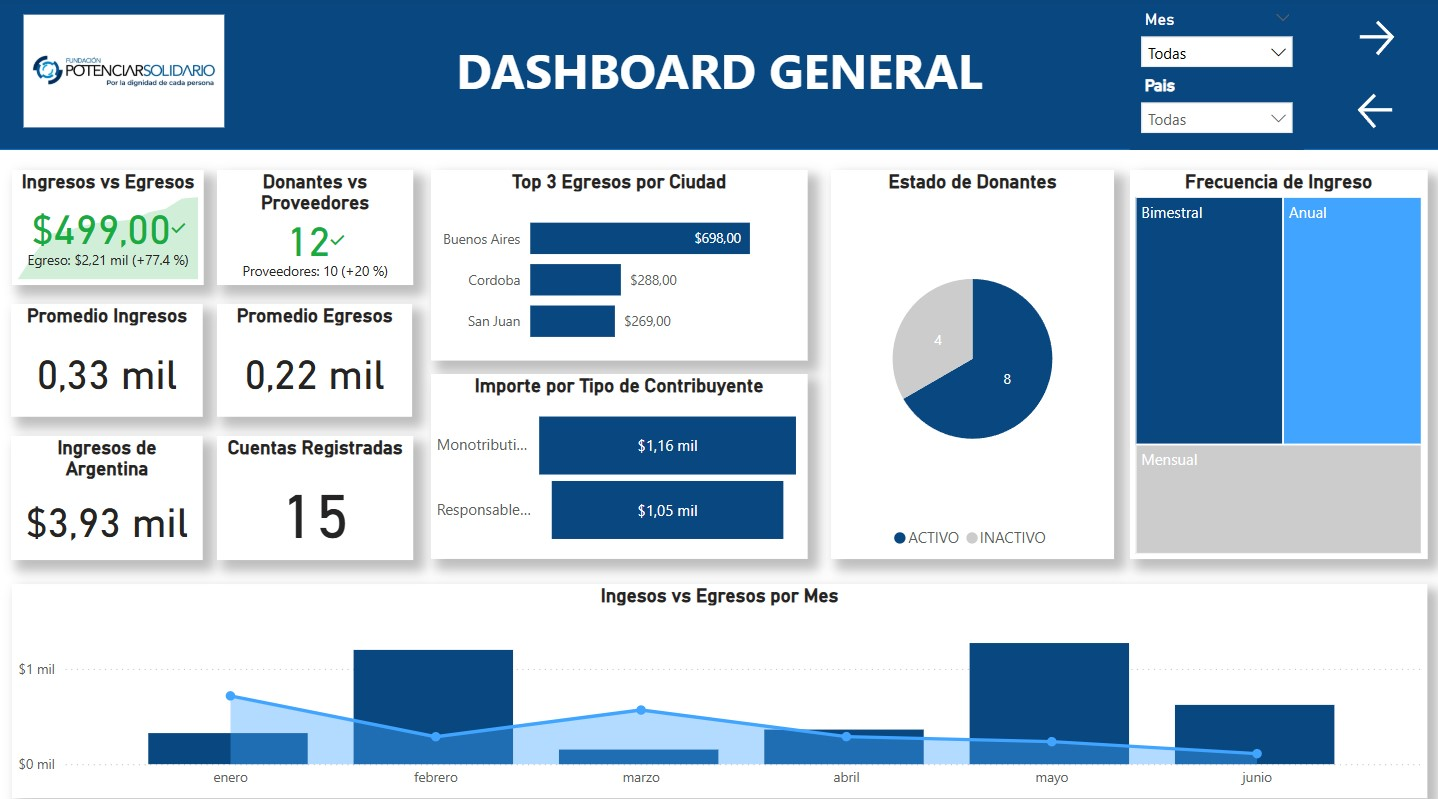

This screenshot's page, from the dashboard's own definition file:
{"tool":"powerbi","page":{"name":"General","canvas":[1280,720],"ordinal":3},"visuals":[{"type":"shape","box":[0,0,1280.4,133.9],"z":0},{"type":"image","box":[2.9,8.8,218.8,109.9],"z":1000},{"type":"textbox","box":[351.1,28.4,577.2,78],"z":2000},{"type":"slicer","fields":{"Values":["fundacionbd pais.Pais"]},"box":[1003.7,63.8,154.3,70],"z":3000},{"type":"actionButton","box":[1201.5,78.9,46.1,40.8],"z":4000},{"type":"actionButton","box":[1201.5,14.2,55.9,40.8],"z":5000},{"type":"slicer","fields":{"Values":["Tabla Calendario.Date.Variación.Jerarquía de fechas.Mes"]},"box":[1003.7,5.3,154.3,58.5],"z":6000},{"type":"kpi","title":"Ingresos vs Egresos","fields":{"Indicator":["Sum(fundacionbd ingreso.Importe)"],"TrendLine":["fundacionbd ingreso.Importe"],"Goal":["Sum(fundacionbd egresos.Importe)"]},"box":[12.4,151.6,170.2,102],"z":7000},{"type":"kpi","title":"Donantes vs Proveedores","fields":{"Indicator":["CountNonNull(fundacionbd ingreso.Id_Ingreso)"],"Goal":["Sum(fundacionbd egresos.Id_Egreso)"],"TrendLine":["fundacionbd egresos.Id_Egreso"]},"box":[194.2,151.6,173.8,102],"z":8000},{"type":"lineStackedColumnComboChart","title":"Ingesos vs Egresos por Mes","fields":{"Y":["Sum(fundacionbd ingreso.Importe)"],"Category":["Tabla Calendario.Date.Variación.Jerarquía de fechas.Mes"],"Y2":["Sum(fundacionbd egresos.Importe)"]},"box":[12.4,518.7,1254.7,189.8],"z":9000},{"type":"card","title":"Promedio Ingresos","fields":{"Values":["Medidas.Prom Importe Don"]},"box":[11.7,270.4,170.2,100.2],"z":10000},{"type":"card","title":"Promedio Egresos","fields":{"Values":["Medidas.Prom Importe x Prov"]},"box":[194.5,270.4,173.1,100.2],"z":11000},{"type":"card","title":"Ingresos de Argentina","fields":{"Values":["Sum(fundacionbd ingreso.Importe)"]},"box":[11.7,387.1,170.2,109.9],"z":12000},{"type":"card","title":"Cuentas Registradas","fields":{"Values":["Count(fundacionbd cuenta.Cuenta)"]},"box":[194.5,387.1,174.1,109.9],"z":13000},{"type":"clusteredBarChart","title":"Top 3 Egresos por Ciudad","fields":{"Y":["Sum(fundacionbd egresos.Importe)"],"Category":["fundacionbd ciudad.Ciudad"]},"box":[384.2,151.7,333.6,169.2],"z":14000},{"type":"pieChart","title":"Estado de Donantes","fields":{"Category":["fundacionbd estadodonante.Estado_donante"],"Y":["CountNonNull(fundacionbd ingreso.Id_Donante)"]},"box":[738.2,151.7,250.9,345.3],"z":15000},{"type":"funnel","title":"Importe por Tipo de Contribuyente","fields":{"Category":["fundacionbd tipocontribuyente.Tipo_contribuyente"],"Y":["Sum(fundacionbd egresos.Importe)"]},"box":[384.2,332.6,333.6,164.4],"z":16000},{"type":"treemap","title":"Frecuencia de Ingreso","fields":{"Group":["fundacionbd frecuencia.Frecuencia"],"Values":["Sum(fundacionbd ingreso.Importe)"]},"box":[1003.8,151.7,263.6,345.3],"z":17000}]}

Visuals, with their boxes in screenshot pixels (x1, y1, x2, y2), scaled from the page's 1280x720 canvas onto the 1438x799 screenshot:
shape: pyautogui.locateOnScreen(0, 0, 1437, 149)
image: pyautogui.locateOnScreen(3, 10, 249, 132)
textbox: pyautogui.locateOnScreen(394, 32, 1043, 118)
slicer - fundacionbd pais.Pais: pyautogui.locateOnScreen(1128, 71, 1301, 148)
actionButton: pyautogui.locateOnScreen(1350, 88, 1402, 133)
actionButton: pyautogui.locateOnScreen(1350, 16, 1413, 61)
slicer - Tabla Calendario.Date.Variación.Jerarquía de fechas.Mes: pyautogui.locateOnScreen(1128, 6, 1301, 71)
"Ingresos vs Egresos" kpi: pyautogui.locateOnScreen(14, 168, 205, 281)
"Donantes vs Proveedores" kpi: pyautogui.locateOnScreen(218, 168, 413, 281)
"Ingesos vs Egresos por Mes" lineStackedColumnComboChart: pyautogui.locateOnScreen(14, 576, 1424, 786)
"Promedio Ingresos" card: pyautogui.locateOnScreen(13, 300, 204, 411)
"Promedio Egresos" card: pyautogui.locateOnScreen(219, 300, 413, 411)
"Ingresos de Argentina" card: pyautogui.locateOnScreen(13, 430, 204, 552)
"Cuentas Registradas" card: pyautogui.locateOnScreen(219, 430, 414, 552)
"Top 3 Egresos por Ciudad" clusteredBarChart: pyautogui.locateOnScreen(432, 168, 806, 356)
"Estado de Donantes" pieChart: pyautogui.locateOnScreen(829, 168, 1111, 552)
"Importe por Tipo de Contribuyente" funnel: pyautogui.locateOnScreen(432, 369, 806, 552)
"Frecuencia de Ingreso" treemap: pyautogui.locateOnScreen(1128, 168, 1424, 552)
